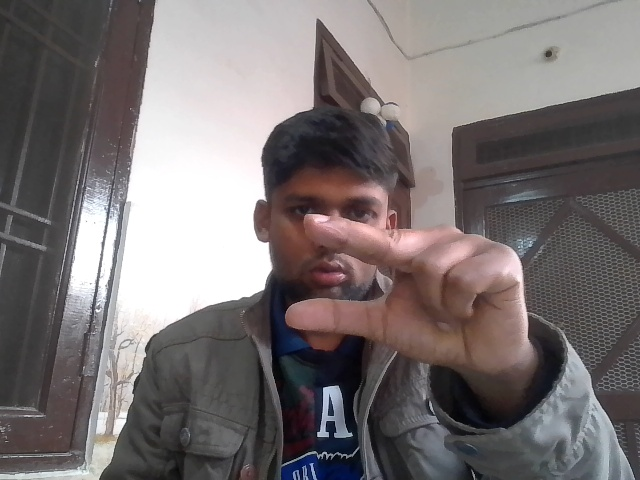No: (275, 208, 540, 391)
